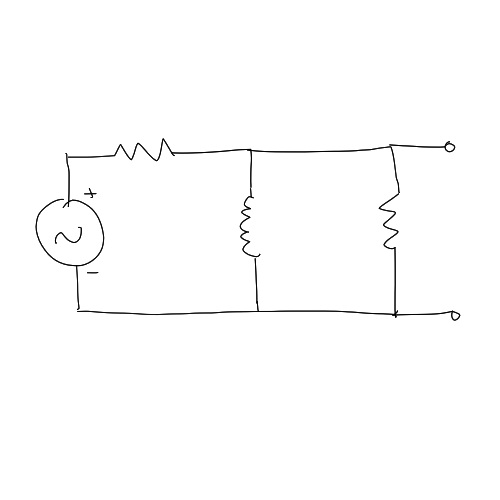acvs: (31, 186, 106, 280)
ind: (234, 190, 267, 263)
probe: (443, 307, 467, 325), (443, 137, 461, 157)
res: (108, 137, 187, 169), (376, 186, 408, 260)
